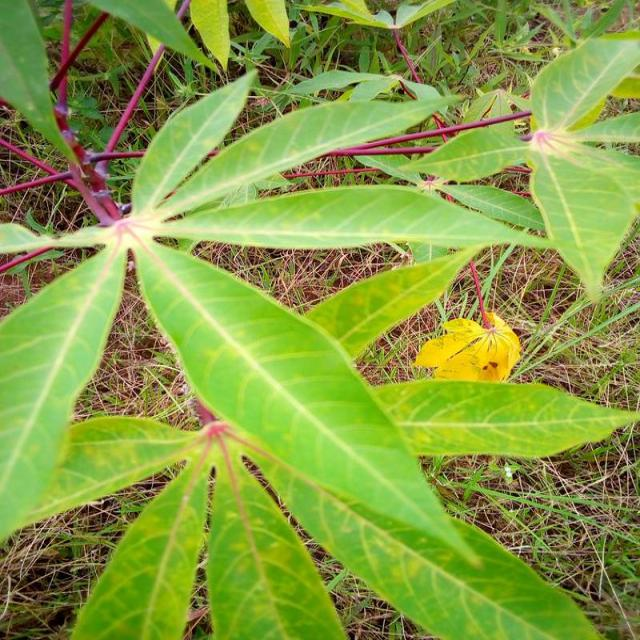cassava leaf: (0, 5, 638, 638), (129, 232, 606, 638)
